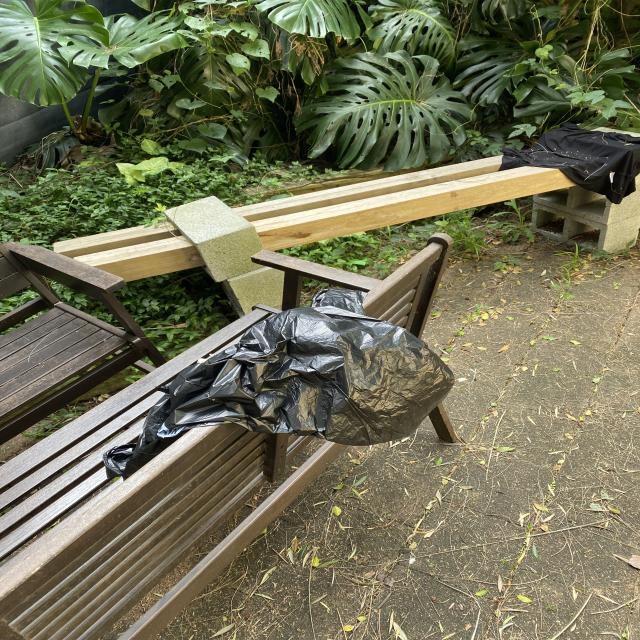bag: (102, 287, 454, 478)
cloth: (499, 127, 640, 206)
